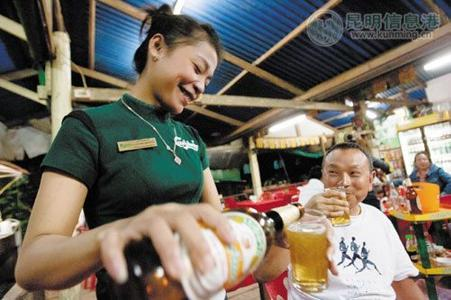person: (14, 6, 237, 300)
